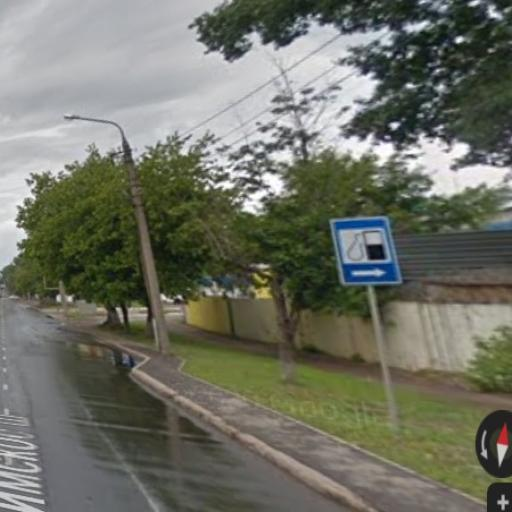traffic_sign: (327, 211, 407, 292)
